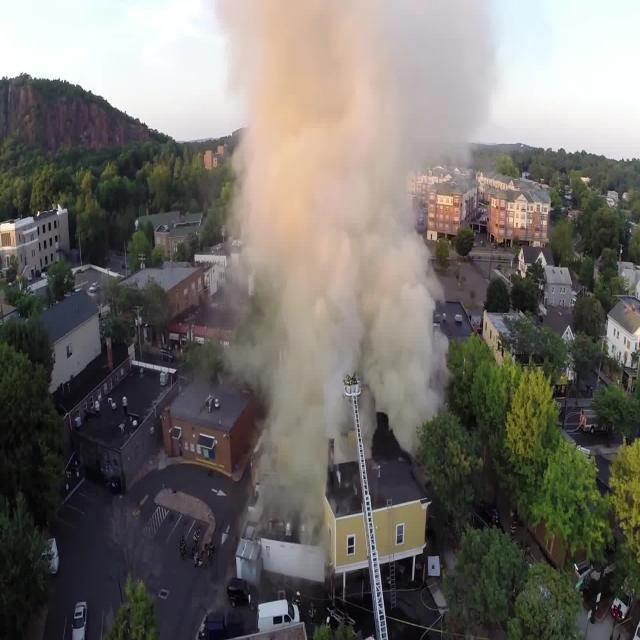Smoke: (254, 32, 418, 424)
